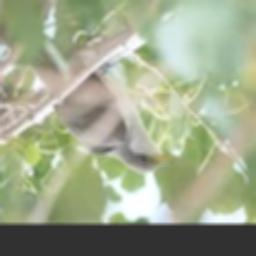Cuckoo: (32, 33, 179, 174)
